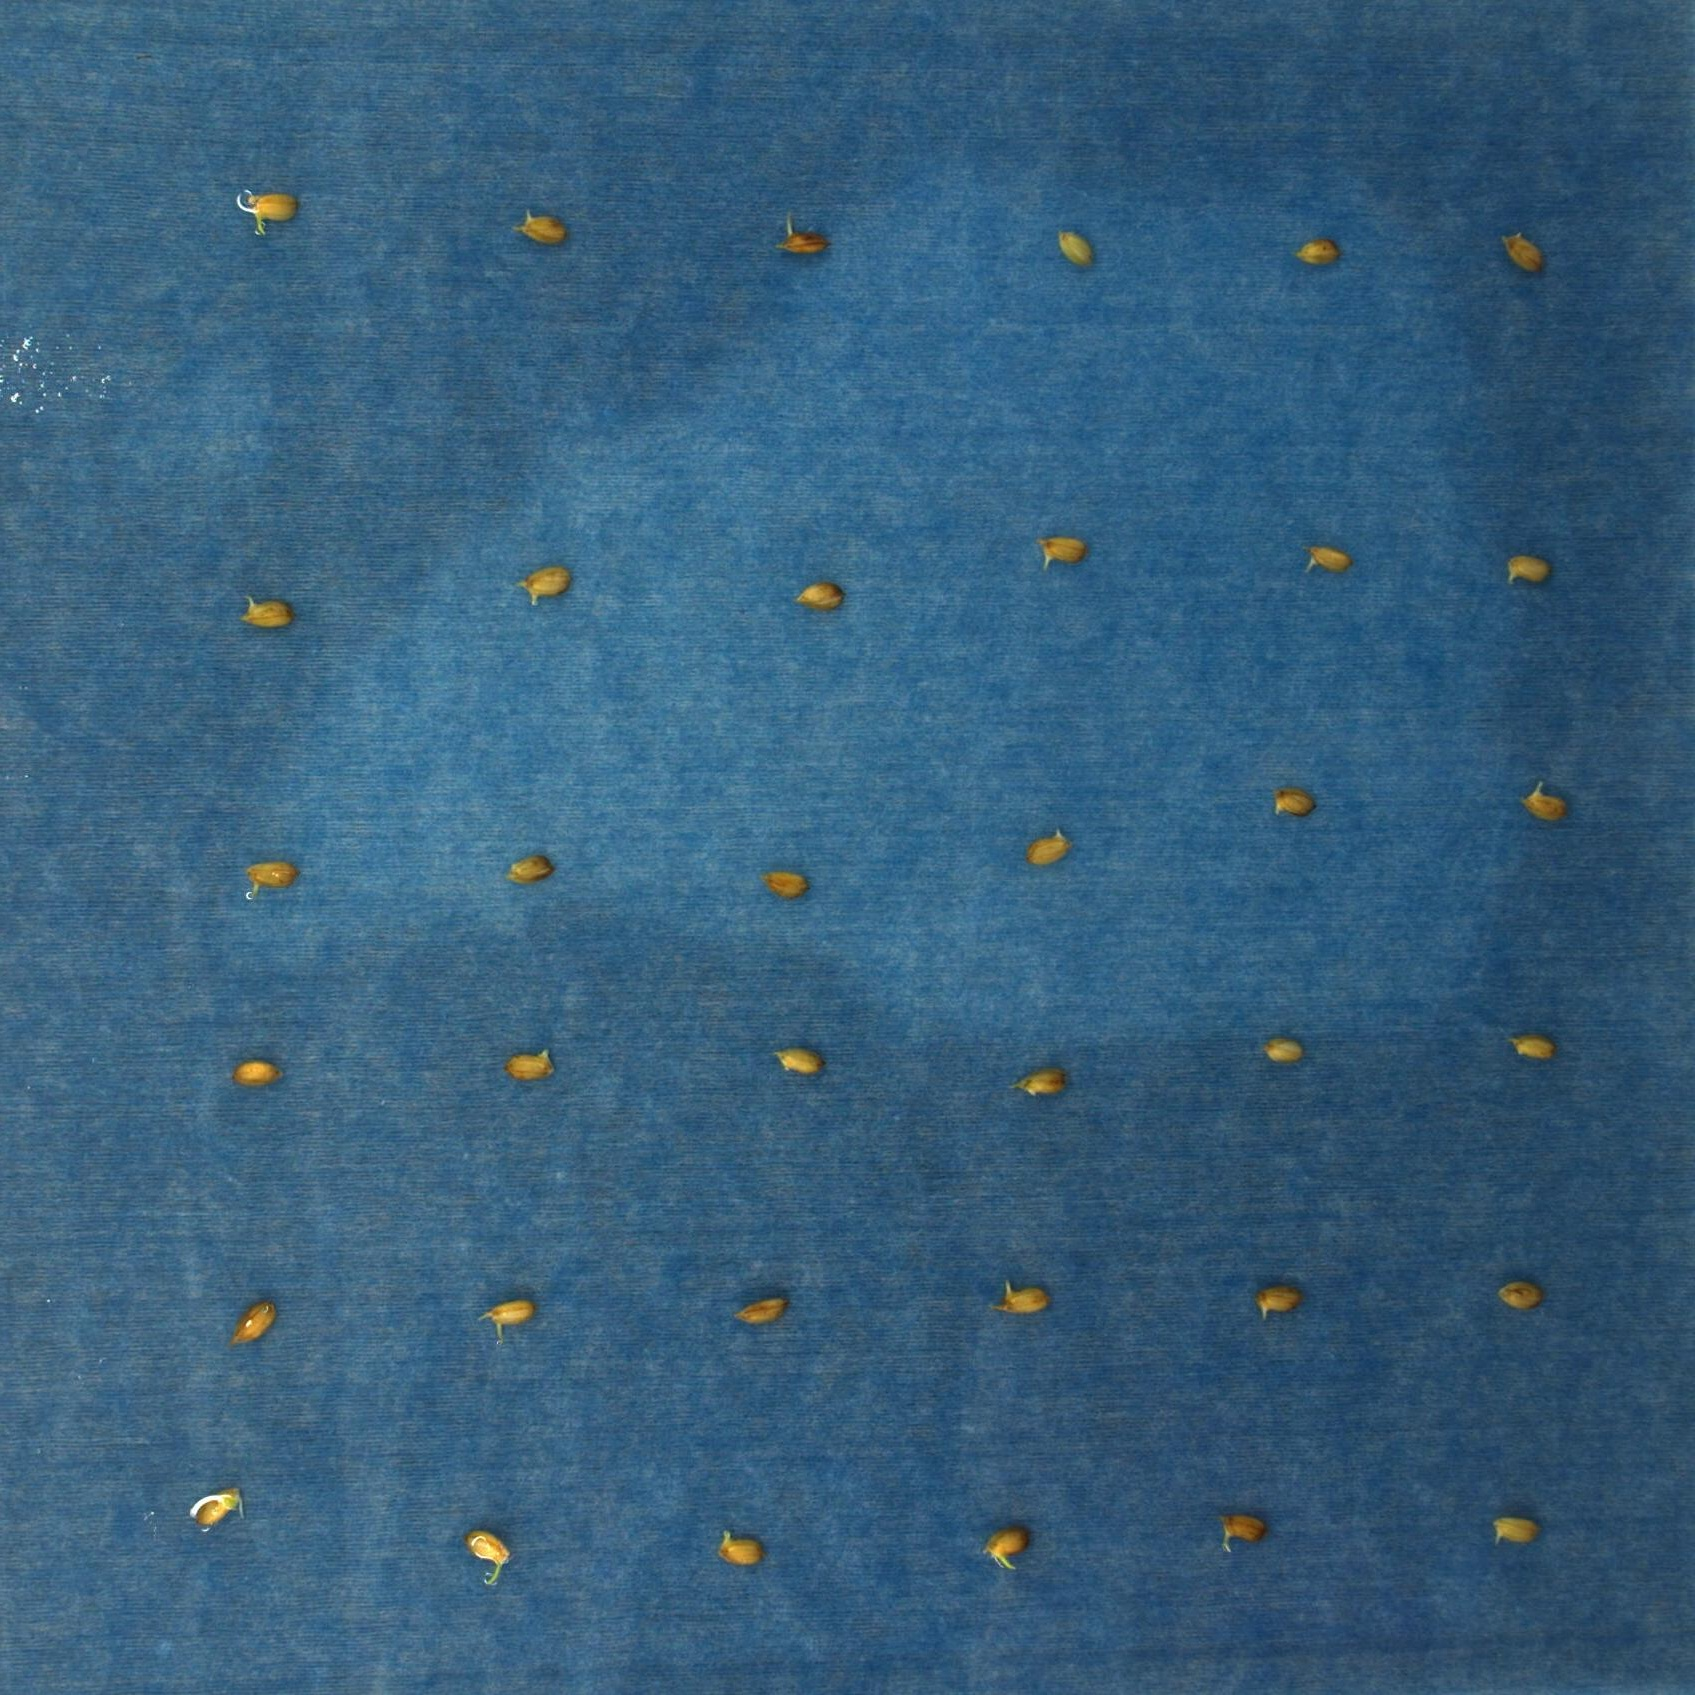not sprout: (230, 855, 304, 903), (220, 1291, 279, 1352), (984, 1276, 1060, 1322), (973, 1516, 1034, 1572), (1020, 820, 1077, 875), (778, 219, 834, 272), (784, 570, 846, 616), (1015, 1059, 1076, 1105), (1251, 1274, 1304, 1327), (1220, 1501, 1271, 1555), (512, 205, 571, 251), (480, 1301, 539, 1347), (191, 1481, 247, 1529), (1487, 1512, 1548, 1555), (511, 560, 573, 602), (1499, 227, 1549, 278), (1052, 225, 1101, 278), (234, 587, 295, 629), (227, 1052, 284, 1096), (1284, 231, 1347, 270), (1035, 529, 1091, 573), (1524, 778, 1572, 827), (1507, 545, 1558, 591), (765, 1040, 824, 1080), (501, 847, 557, 889), (501, 1045, 557, 1087), (709, 1527, 765, 1569), (1251, 1029, 1309, 1069), (1504, 1029, 1562, 1069), (762, 868, 816, 910), (737, 1285, 789, 1329), (1492, 1276, 1544, 1318), (1302, 542, 1355, 577), (1270, 785, 1318, 823)
sprout: (233, 175, 309, 237), (464, 1527, 517, 1585)
